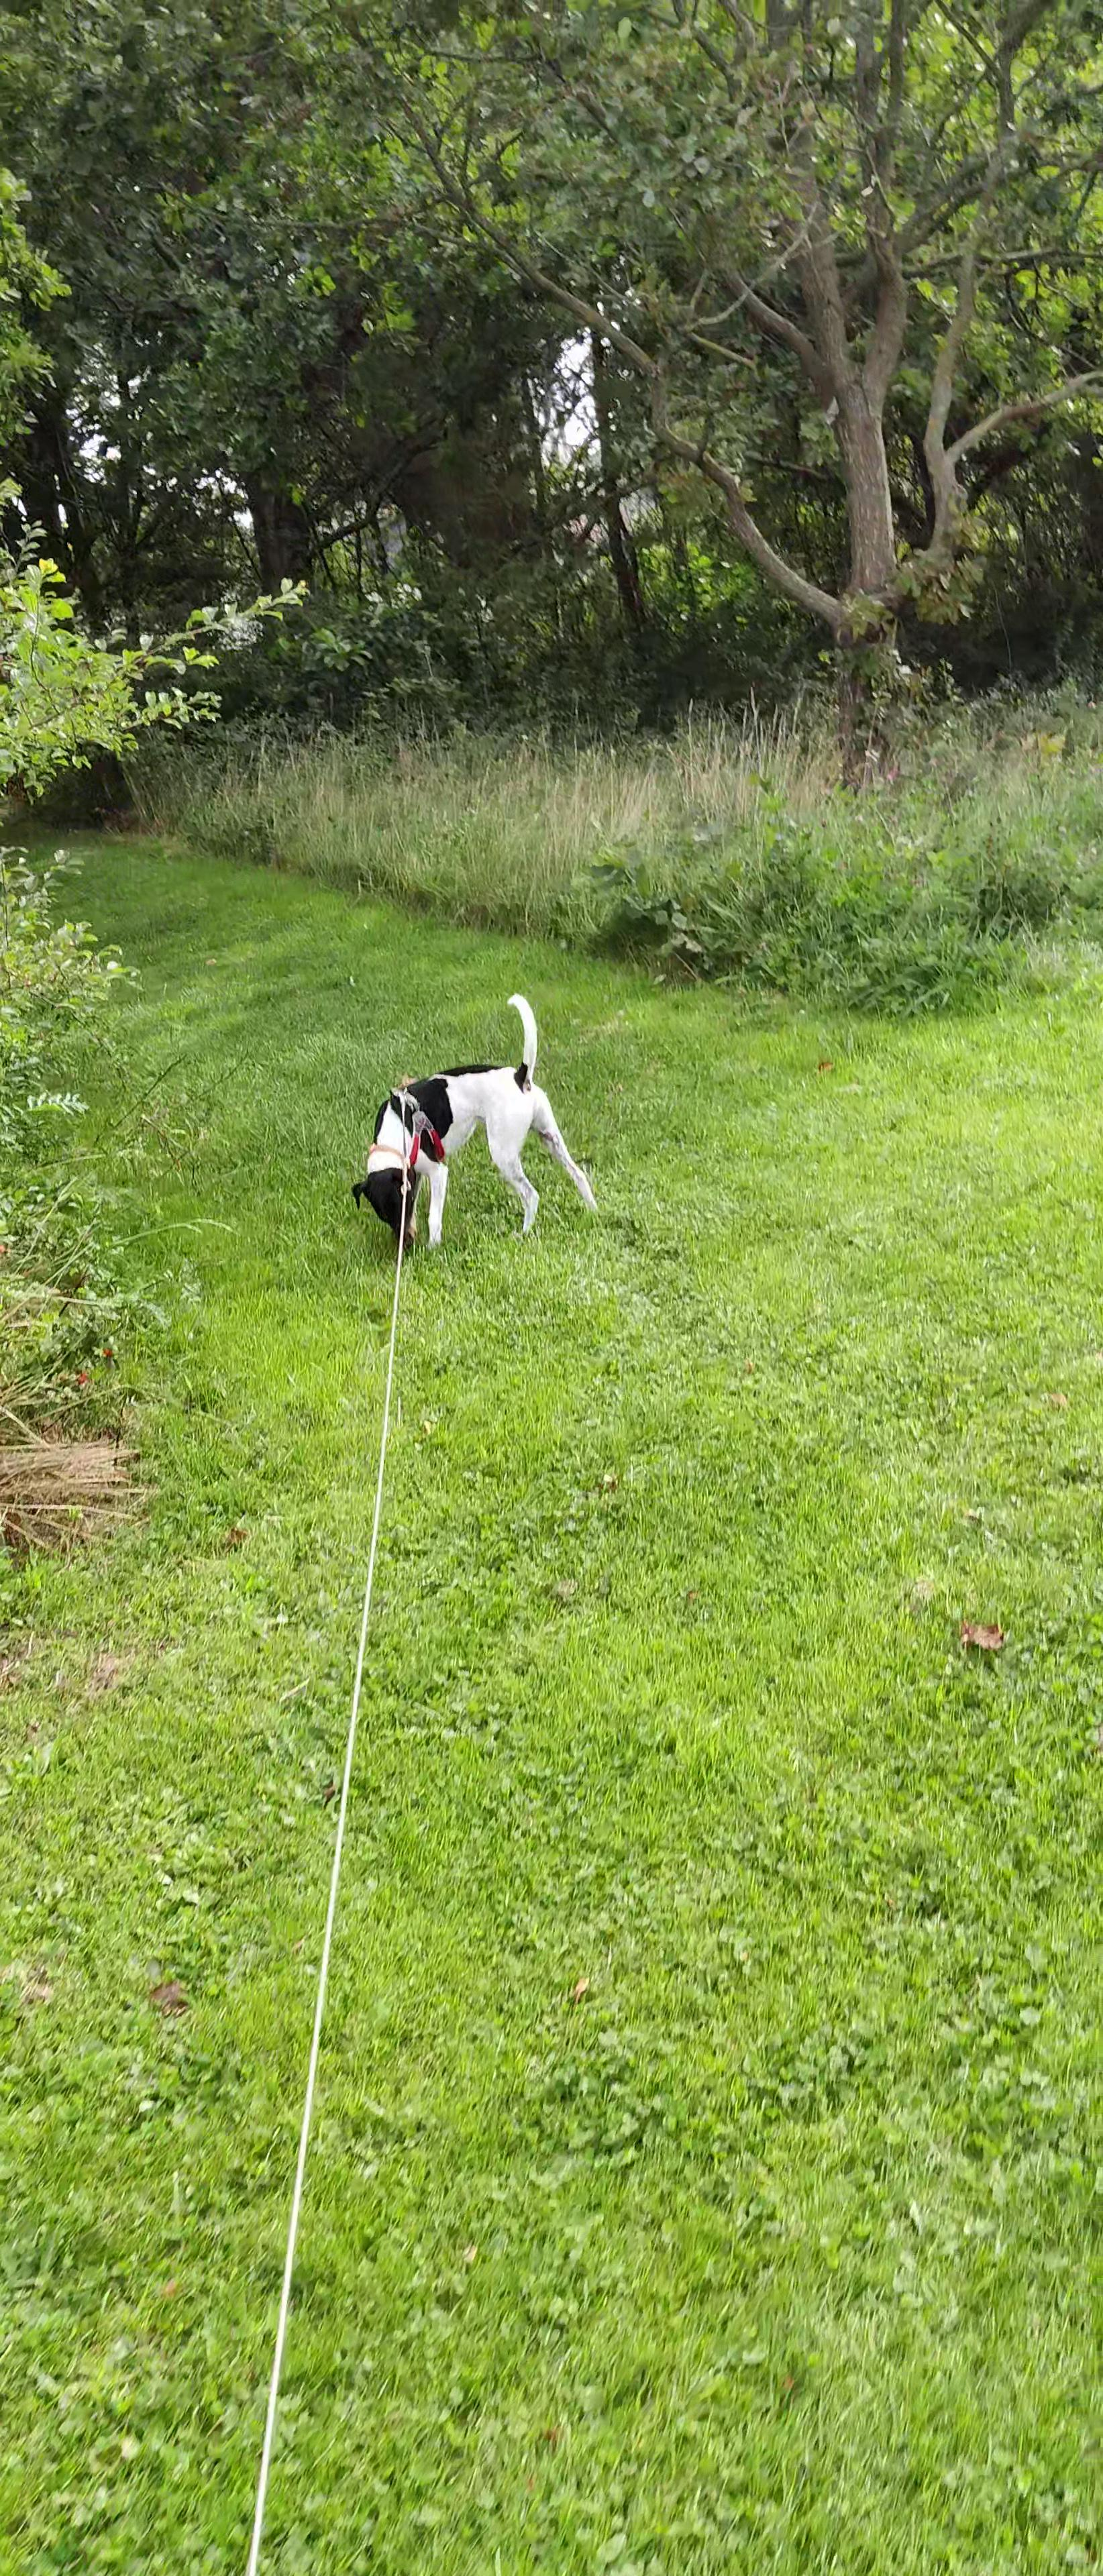Dog: (332, 986, 620, 1255)
